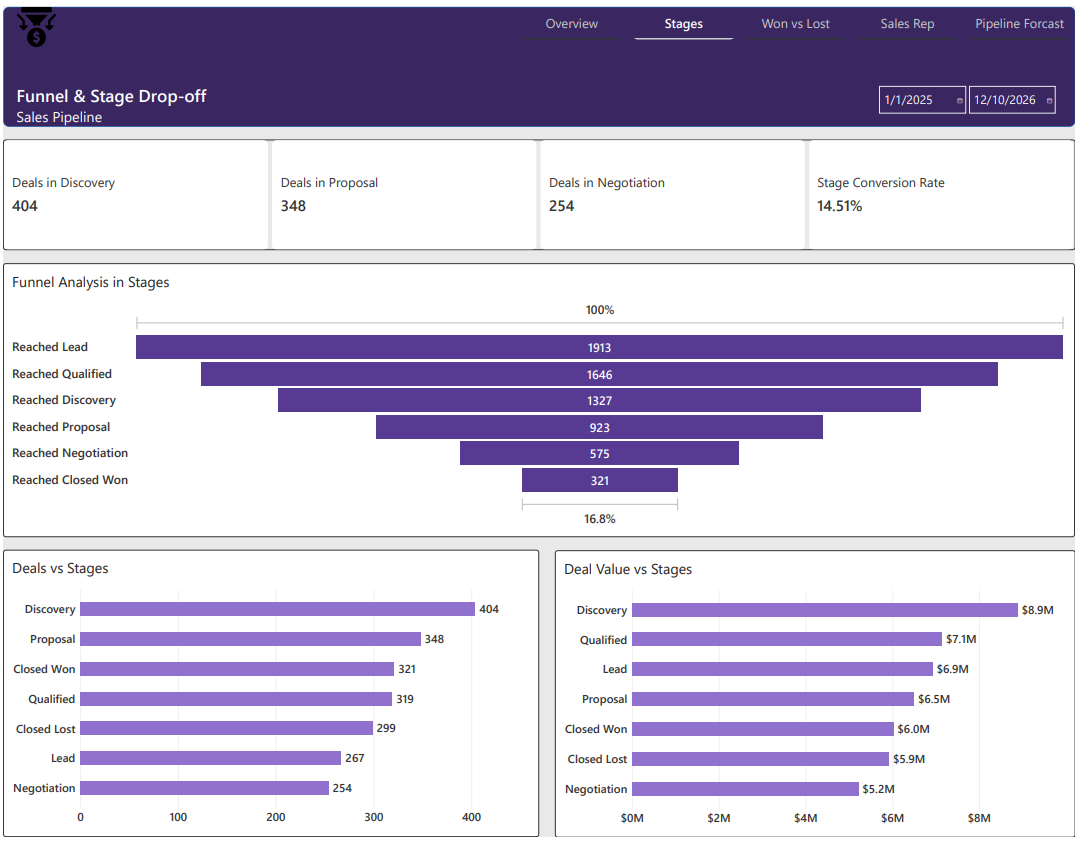

This screenshot's page, from the dashboard's own definition file:
{"tool":"powerbi","page":{"name":"Stages","canvas":[2000,1550],"ordinal":1},"visuals":[{"type":"shape","box":[0,0,2000.5,223.6],"z":0},{"type":"image","box":[0,2.5,122.9,71.3],"z":1000},{"type":"textbox","box":[24.6,142.5,464.5,81.1],"z":2000},{"type":"pageNavigator","box":[960.9,0,1040,61.4],"z":3000},{"type":"cardVisual","fields":{"Data":["Measure.Deals in Discovery","Measure.Deals in Proposal","Measure.Deals in Negotiation","Measure.Stage Conversion Rate"]},"box":[0,248,2000.5,206.4],"z":4000},{"type":"funnel","title":"Funnel Analysis in Stages","fields":{"Y":["Measure.Reached Lead","Measure.Reached Qualified","Measure.Reached Discovery","Measure.Reached Proposal","Measure.Reached Negotiation","Measure.Reached Closed Won"]},"box":[0,478.7,2000,511.2],"z":5000},{"type":"barChart","title":"Deals vs Stages","fields":{"Category":["Sales_Pipeline.Deal_Stage"],"Y":["Measure.Total Deals"]},"box":[0,1014.2,1000.3,535.8],"z":6000},{"type":"slicer","fields":{"Values":["Calendar Table.Date"]},"box":[1627,142.5,341.6,61.4],"z":7000},{"type":"barChart","title":"Deal Value vs Stages","fields":{"Category":["Sales_Pipeline.Deal_Stage"],"Y":["Measure.Total Deal Value"]},"box":[1029.7,1015,970.8,535.8],"z":8000}]}

Visuals, with their boxes in screenshot pixels (x1, y1, x2, y2), scaled from the page's 2000x1550 canvas onto the 1083x845 screenshot:
shape: [0, 0, 1082, 122]
image: [0, 1, 67, 40]
textbox: [13, 78, 265, 122]
pageNavigator: [520, 0, 1082, 33]
cardVisual - Measure.Deals in Discovery x Measure.Deals in Proposal: [0, 135, 1082, 248]
"Funnel Analysis in Stages" funnel: [0, 261, 1082, 540]
"Deals vs Stages" barChart: [0, 553, 542, 844]
slicer - Calendar Table.Date: [881, 78, 1066, 111]
"Deal Value vs Stages" barChart: [558, 553, 1082, 844]
